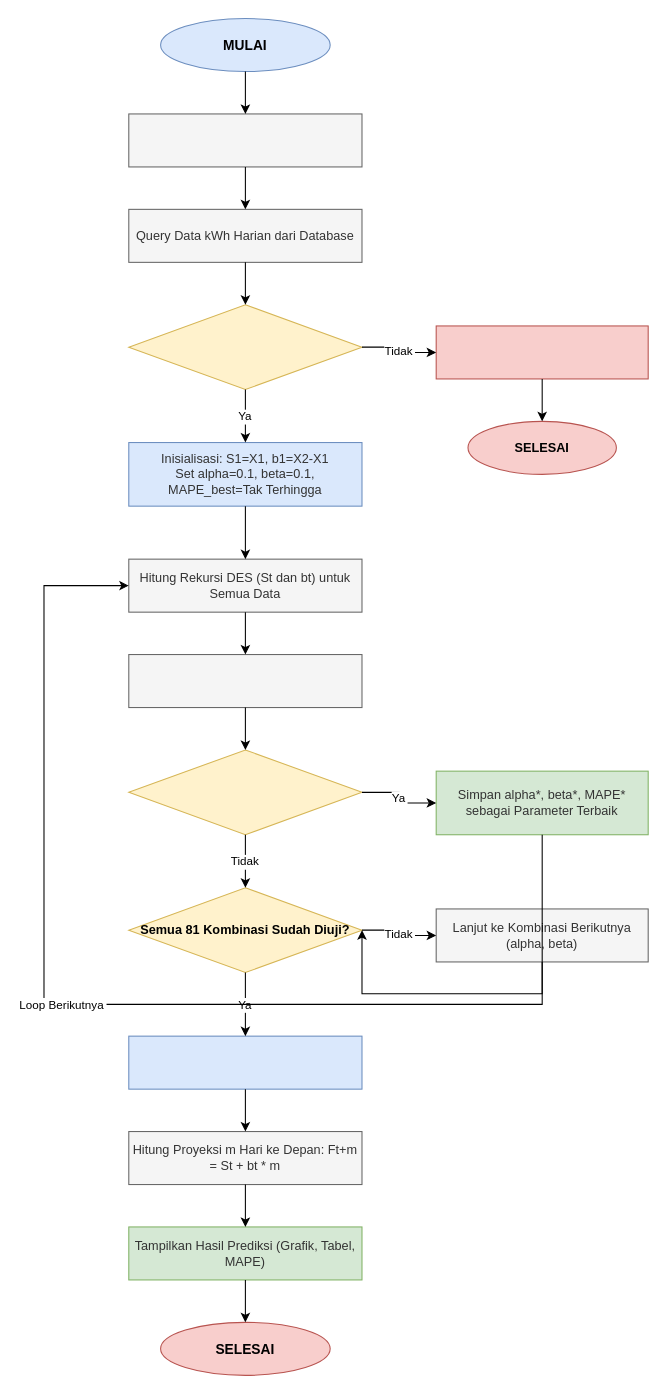
The diagram is 667 pixels wide and 1394 high, and some of its shapes have lost their labels. Each missing label, with the centre of its shape:
"Gunakan Parameter Optimal (alpha*, beta*)" goes at point 245,1062.
"Hitung Nilai Prediksi dan MAPE" goes at point 245,680.
"Input Parameter (Mesin, Rentang Tanggal, Periode Prediksi)" goes at point 245,140.
"Jumlah Data Historis >= 3?" goes at point 245,347.
"MAPE < MAPE_terbaik?" goes at point 245,792.
"Tampil Pesan Error (Data Tidak Cukup)" goes at point 541,352.
